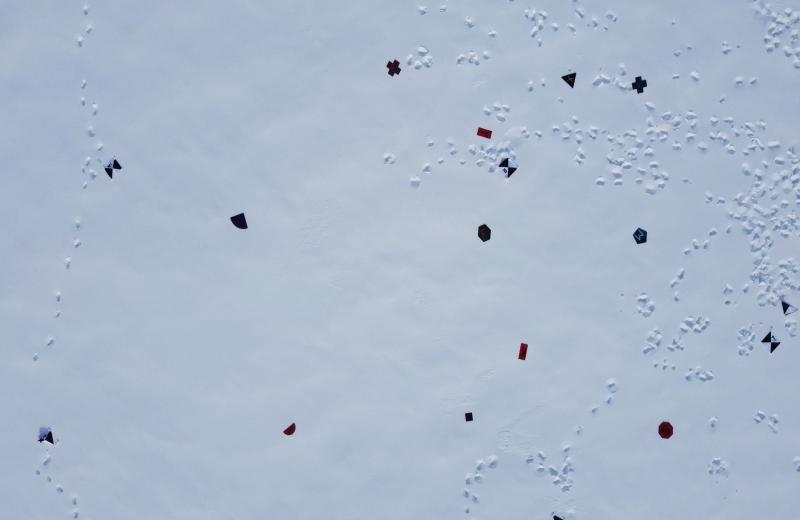Cross: (631, 75, 647, 92), (386, 59, 401, 77)
Hexagon: (477, 223, 492, 243)
Octagon: (658, 420, 674, 440)
Pentagon: (633, 226, 648, 246)
Quarter Circle: (229, 210, 249, 231)
Rectangle: (516, 342, 532, 360), (476, 125, 492, 139)
Semi Circle: (284, 421, 296, 437)
Square: (464, 410, 474, 422)
Triangle: (561, 70, 577, 90)
